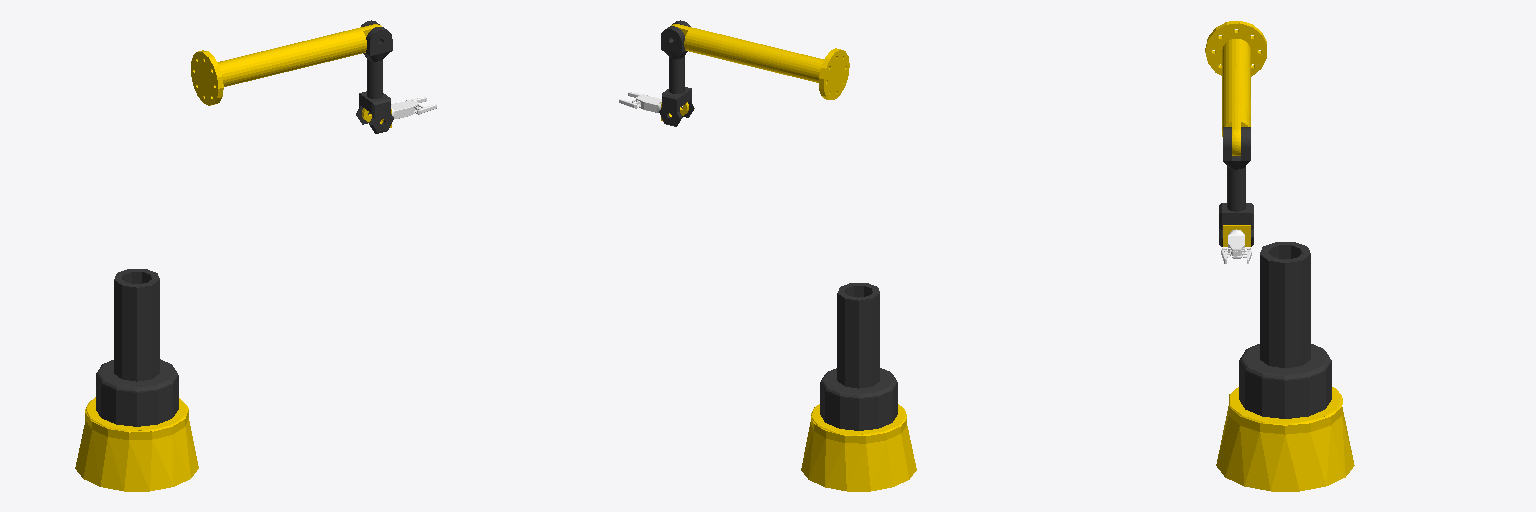
The robot description file, URDF, robot "robot":
<?xml version="1.0"?>

<robot name="robot">
    <!-- Color of materials -->
  <material name="yellow">
    <color rgba="1 0.839 0 1"/>
  </material>
  <material name="gray">
    <color rgba="0.267 0.267 0.267 1"/>
  </material>
  <material name="steel">
    <color rgba="0.7 0.7 0.7 1"/>
  </material>
  <material name="white">
    <color rgba="1 1 1 1"/>
  </material> 

  <link name="Base">
    <visual>
      <geometry>
        <mesh filename="package://proyecto/meshes/Base.stl" scale="0.01 0.01 0.01"/>
      </geometry>
      <origin rpy="0 0 0" xyz="0 0 0"/>
      <material name="yellow" />
    </visual>
    <inertial>
      <mass value="4.0"/>
      <origin rpy="0 0 0" xyz="0.0 0.0 0.0"/>
      <inertia ixx="14.5" ixy="0.0" ixz="0.0" iyy="14.5" iyz="0.0" izz="20.708"/>
    </inertial>
  </link>

  <joint name="q1" type="revolute">
    <parent link="Base"/>
    <child link="Eslabon1"/>
    <origin xyz="0 0 0.3"/>
    <axis xyz="0 0 1" />
    <limit effort="300" velocity="0.1" lower="-3.1" upper="3.1"/>
  </joint>

  <link name="Eslabon1">
    <visual>
      <geometry>
        <mesh filename="package://proyecto/meshes/Eslabon1.stl" scale="0.01 0.01 0.01"/>
      </geometry>
      <origin rpy="0 0 0" xyz="0 0 0"/>
      <material name="gray" />
    </visual>
    <inertial>
      <mass value="4.0"/>
      <origin rpy="0 0 0" xyz="0.0 0.0 0.0"/>
      <inertia ixx="12.429" ixy="0.0" ixz="0.0" iyy="12.429" iyz="0.0" izz="4.797"/>
    </inertial>
  </link>

  <joint name="q2" type="prismatic">
    <parent link="Eslabon1"/>
    <child link="Eslabon2"/>
    <origin xyz="0 0 0.2"/>
    <axis xyz="0 0 1" />
    <limit effort="300" velocity="0.1" lower="0" upper="0.5"/>
  </joint>

  <link name="Eslabon2">
    <visual>
      <geometry>
        <mesh filename="package://proyecto/meshes/Eslabon2.stl" scale="0.01 0.01 0.01"/>
      </geometry>
      <origin rpy="0 0 0" xyz="0 0 0"/>
      <material name="steel" />
    </visual>
    <inertial>
      <mass value="4.0"/>
      <origin rpy="0 0 0" xyz="0.0 0.0 0.0"/>
      <inertia ixx="19.032" ixy="0.0" ixz="0.0" iyy="19.032" iyz="0.0" izz="0.578"/>
    </inertial>
  </link>

  <joint name="q3" type="revolute">
    <parent link="Eslabon2"/>
    <child link="Eslabon3"/>
    <origin xyz="0 -0.21 1.2"/>
    <axis xyz="0 -1 0"/>
    <limit effort="300" velocity="0.1" lower="-3.1" upper="3.1"/>
  </joint>

  <link name="Eslabon3">
    <visual>
      <geometry>
        <mesh filename="package://proyecto/meshes/Eslabon3.stl" scale="0.01 0.01 0.01"/>
      </geometry>
      <origin rpy="0 0 0" xyz="0 0 0"/>
      <material name="yellow" />
    </visual>
    <inertial>
      <mass value="4.0"/>
      <origin rpy="0 0 0" xyz="0.0 0.0 0.0"/>
      <inertia ixx="6.719" ixy="-0.001" ixz="-0.593" iyy="8.49" iyz="0.011" izz="2.757"/>
    </inertial>
  </link>

  <joint name="q4" type="revolute">
    <parent link="Eslabon3"/>
    <child link="Eslabon4"/>
    <origin xyz="0.254 0 0.385371"/>
    <axis xyz="1 0 0" />
    <limit effort="300" velocity="0.1" lower="-3.1" upper="3.1"/>
  </joint>

  <link name="Eslabon4">
    <visual>
      <geometry>
        <mesh filename="package://proyecto/meshes/Eslabon4.stl" scale="0.01 0.01 0.01"/>
      </geometry>
      <origin rpy="0 0 0" xyz="0 0 0"/>
      <material name="yellow" />
    </visual>
    <inertial>
      <mass value="4.0"/>
      <origin rpy="0 0 0" xyz="0.0 0.0 0.0"/>
      <inertia ixx="0.287" ixy="0.0" ixz="0.0" iyy="8.504" iyz="0.0" izz="8.499"/>
    </inertial>
  </link>

  <joint name="q5" type="revolute">
    <parent link="Eslabon4"/>
    <child link="Eslabon5"/>
    <origin xyz="0.95 0 0"/>
    <axis xyz="0 1 0" />
    <limit effort="300" velocity="0.1" lower="-3.1" upper="3.1"/>
  </joint>

  <link name="Eslabon5">
    <visual>
      <geometry>
        <mesh filename="package://proyecto/meshes/Eslabon5.stl" scale="0.01 0.01 0.01"/>
      </geometry>
      <origin rpy="0 0 0" xyz="0 0 0"/>
      <material name="gray" />
    </visual>
    <inertial>
      <mass value="4.0"/>
      <origin rpy="0 0 0" xyz="0.0 0.0 0.0"/>
      <inertia ixx="0.648" ixy="0.0" ixz="0.0" iyy="0.629" iyz="0.0" izz="0.068"/>
    </inertial>
  </link>

  <joint name="q6" type="revolute">
    <parent link="Eslabon5"/>
    <child link="Eslabon6"/>
    <origin xyz="0 0 -0.4225"/>
    <axis xyz="0 1 0" />
    <limit effort="300" velocity="0.1" lower="-3.1" upper="3.1"/>
  </joint>

  <link name="Eslabon6">
    <visual>
      <geometry>
        <mesh filename="package://proyecto/meshes/Eslabon6.stl" scale="0.01 0.01 0.01"/>
      </geometry>
      <origin rpy="0 0 0" xyz="0 0 0"/>
      <material name="yellow" />
    </visual>
    <inertial>
      <mass value="4.0"/>
      <origin rpy="0 0 0" xyz="0.0 0.0 0.0"/>
      <inertia ixx="0.007" ixy="0.0" ixz="0.0" iyy="0.011" iyz="0.0" izz="0.011"/>
    </inertial>
  </link>

  <joint name="q7" type="revolute">
    <parent link="Eslabon6"/>
    <child link="Efector"/>
    <origin xyz="0.3145 0 0" rpy="0 1.57079 0"/>
    <axis xyz="0 0 1" />
    <limit effort="300" velocity="0.1" lower="-3.1" upper="3.1"/>
  </joint>

  <link name="Efector">
    <visual>
      <geometry>
        <mesh filename="package://proyecto/meshes/Efector_Final.stl" scale="0.01 0.01 0.01"/>
      </geometry>
      <origin rpy="0 0 0" xyz="0 0 0"/>
      <material name="white" />
    </visual>
    <inertial>
      <mass value="4.0"/>
      <origin rpy="0 0 0" xyz="0.0 0.0 0.0"/>
      <inertia ixx="0.02" ixy="0.0" ixz="0.0" iyy="0.017" iyz="0.0" izz="0.004"/>
    </inertial>
  </link>
 
</robot>

--- Render facts (derived) ---
Views: 3 orthographic renders of the robot side by side, from view 1: azimuth 30°, elevation 25°; view 2: azimuth 150°, elevation 25°; view 3: azimuth 270°, elevation 25°.
Model robot with 8 links and 7 joints (6 revolute, 1 prismatic), rooted at Base, posed all joints at 0.
Links seen in each view (by area): view 1: Eslabon1, Base, Eslabon4, Eslabon5, Efector; view 2: Eslabon1, Base, Eslabon4, Eslabon5; view 3: Eslabon1, Base, Eslabon4, Eslabon5, Efector.
Boxes of the visible links, box(x1,y1,x2,y2) form: Eslabon1: box(96, 269, 178, 426); Base: box(75, 397, 198, 491); Eslabon4: box(191, 24, 381, 105); Eslabon5: box(356, 20, 393, 133); Efector: box(391, 97, 436, 118); Eslabon1: box(820, 283, 897, 430); Base: box(801, 404, 916, 491); Eslabon4: box(671, 24, 849, 99); Eslabon5: box(659, 20, 694, 126); Eslabon1: box(1239, 242, 1331, 418); Base: box(1216, 387, 1354, 491); Eslabon4: box(1205, 21, 1266, 155); Eslabon5: box(1219, 127, 1253, 246); Efector: box(1221, 229, 1251, 263).
Size in the robot's own frame: 1.82 by 0.6434 by 2.22 metres.
6 mesh visuals loaded from 8 distinct referenced files (6 binary STL); not drawn: 2 (reference not matched to a file when rendering).
